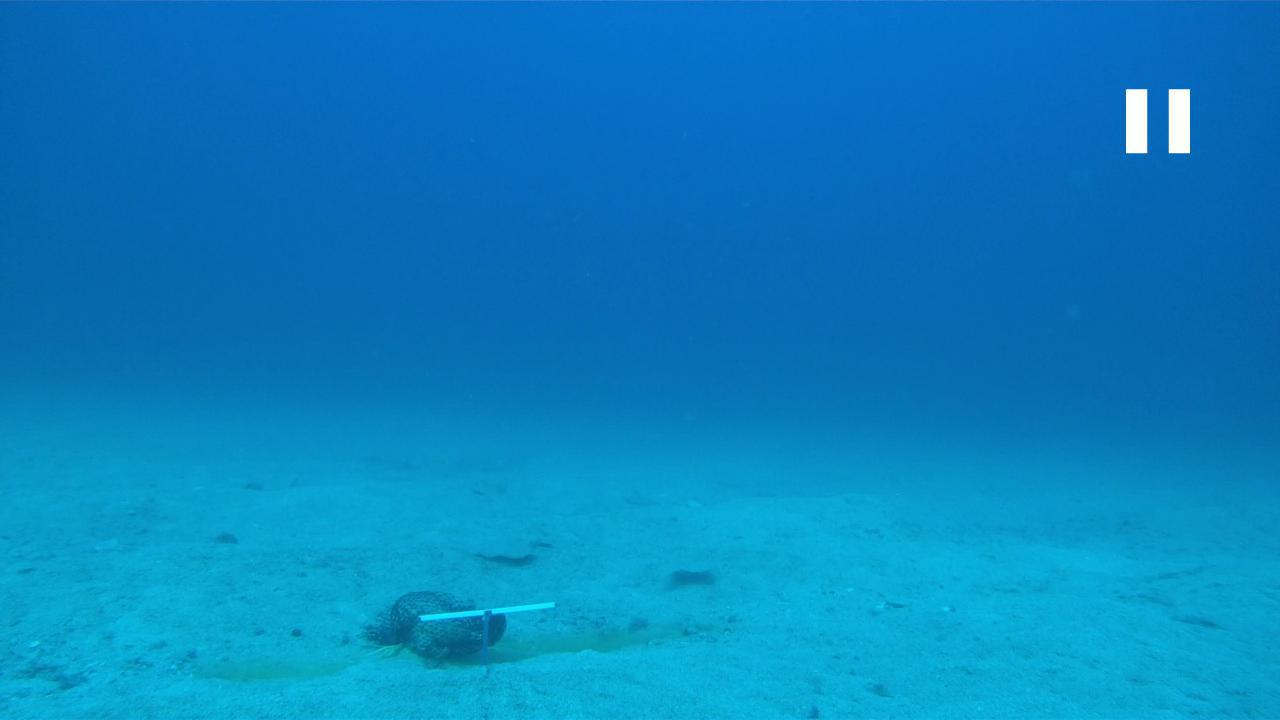bothus: (446, 535, 542, 568), (664, 561, 714, 581)
